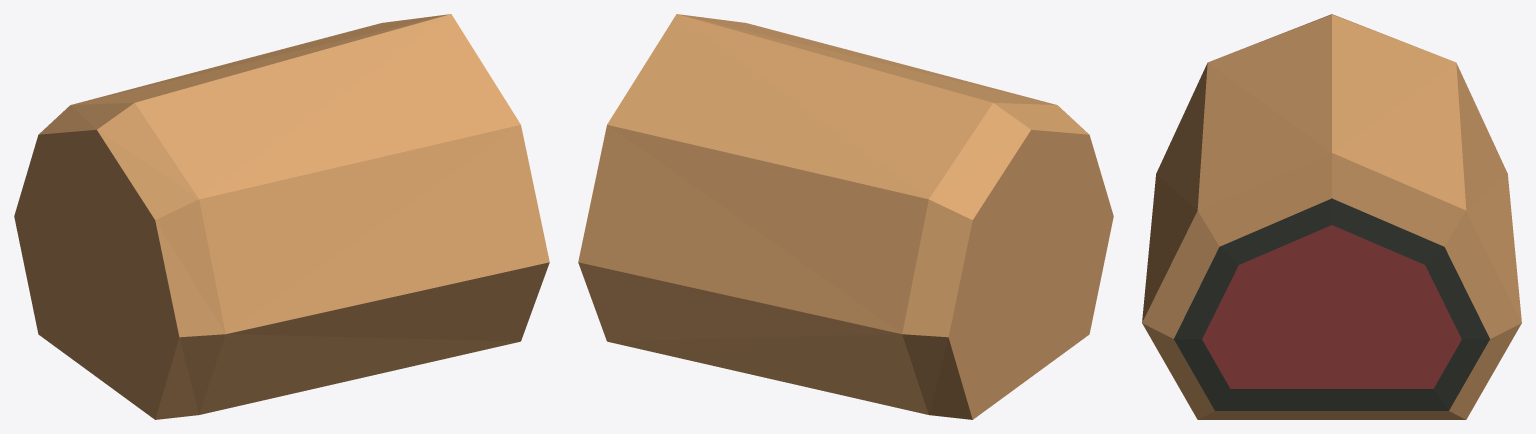
File: beefWellingtonCutHalf.fbx
3 views of the same model, side by side, from view 1: azimuth 30°, elevation 25°; view 2: azimuth 150°, elevation 25°; view 3: azimuth 270°, elevation 25° (orthographic). The views are drawn at different scales.
Parts seen in each view (by area): view 1: beefWellingtonCutHalf; view 2: beefWellingtonCutHalf; view 3: beefWellingtonCutHalf.
Part boxes in pixels (x1,y1,x2,y2): beefWellingtonCutHalf: (14,14,549,419); beefWellingtonCutHalf: (578,14,1113,419); beefWellingtonCutHalf: (1142,14,1521,419).
Bounding box in the file's own units: 15.64 × 11.31 × 14.57.
Materials: 1 (1 with a texture image).
